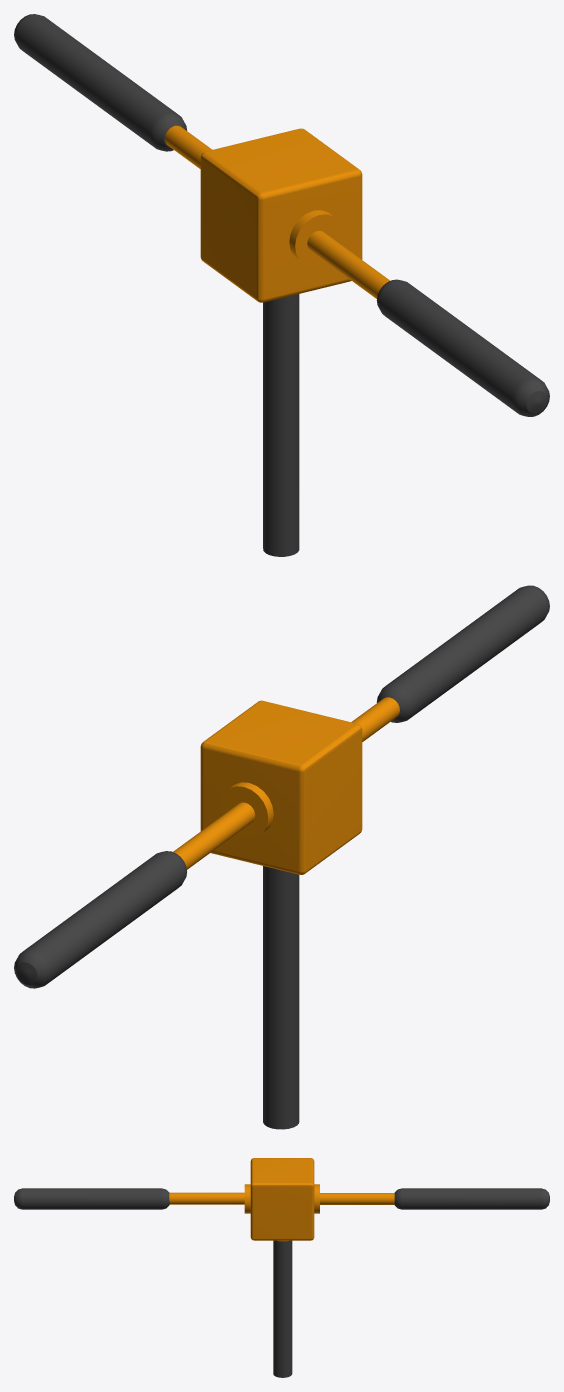
3 views of the same model, one above another, from view 1: azimuth 30°, elevation 25°; view 2: azimuth 150°, elevation 25°; view 3: azimuth 270°, elevation 25° (orthographic). The views are drawn at different scales.
Visible parts, largest first — view 1: polySurface13, polySurface11; view 2: polySurface13, polySurface11; view 3: polySurface13, polySurface11.
Part boxes in pixels (box(x1,y1,x2,y2)): polySurface13: box(14, 14, 549, 416); polySurface11: box(263, 294, 299, 556); polySurface13: box(14, 585, 549, 988); polySurface11: box(263, 866, 299, 1129); polySurface13: box(14, 1158, 549, 1241); polySurface11: box(273, 1240, 292, 1377).
Bounding box in the file's own units: 1 × 3.53 × 8.42.
